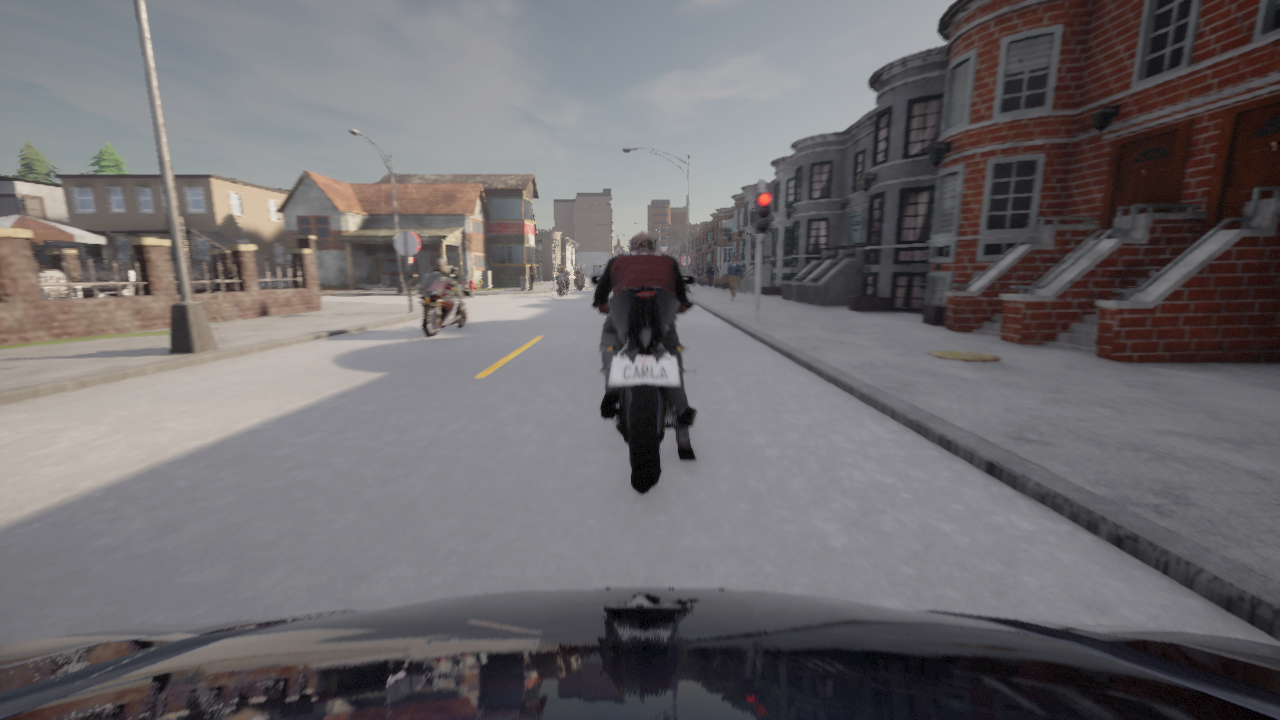cyclist: (0, 588, 1279, 719), (590, 275, 697, 495), (409, 272, 472, 338), (555, 272, 568, 296), (574, 273, 583, 290)
pedestrian: (726, 255, 742, 301), (706, 262, 715, 289), (528, 262, 535, 290), (691, 266, 695, 282)
